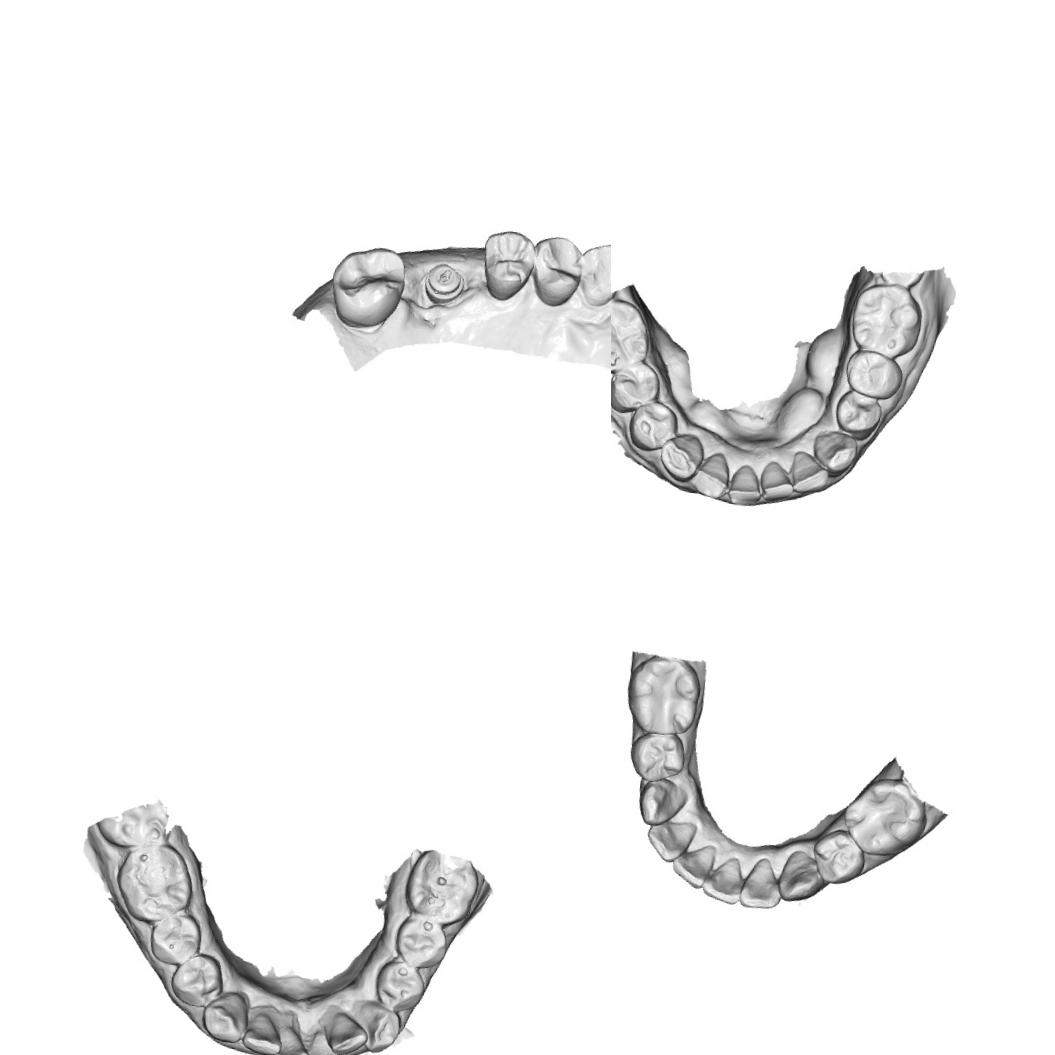canine: (198, 986, 252, 1045), (774, 848, 827, 906), (571, 238, 611, 314), (351, 998, 403, 1055), (636, 775, 690, 829), (656, 430, 707, 484), (808, 427, 859, 479)
implant_minus: (424, 258, 464, 304)
incisor: (643, 817, 698, 866), (737, 856, 785, 912), (668, 839, 716, 891), (700, 853, 746, 906), (323, 1007, 372, 1055), (689, 448, 733, 501), (240, 1007, 287, 1055), (788, 448, 832, 497), (756, 458, 798, 504), (725, 462, 765, 509), (272, 1022, 314, 1055), (304, 1024, 345, 1055)
molar: (838, 772, 932, 862), (324, 238, 412, 334), (111, 838, 199, 930), (622, 652, 704, 740), (400, 844, 482, 930), (844, 277, 926, 361), (611, 293, 654, 378)
premolar: (476, 226, 540, 303), (527, 232, 585, 310), (842, 346, 906, 404), (809, 826, 868, 888), (391, 912, 451, 972), (168, 948, 226, 1010), (626, 728, 688, 785), (147, 909, 205, 969), (624, 397, 682, 455), (611, 357, 664, 418), (832, 384, 885, 444), (372, 958, 428, 1014)
